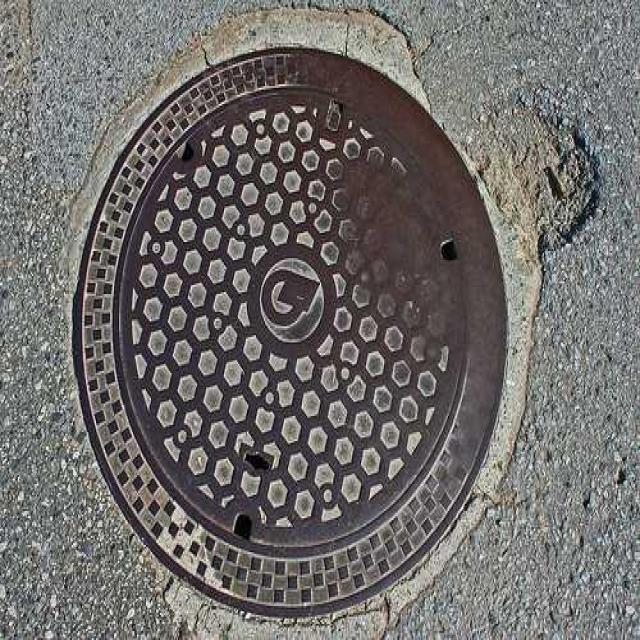manhole: (69, 47, 513, 622)
